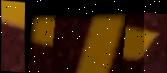scratch: (24, 1, 145, 73)
